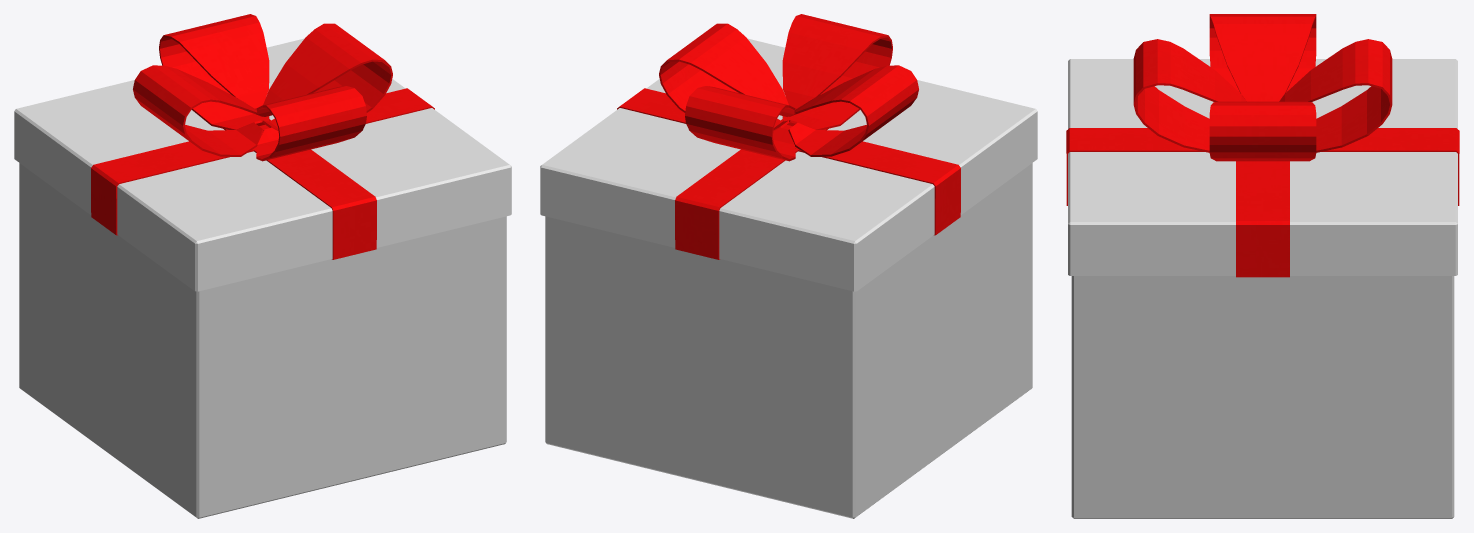
File: gift box.fbx
3 renders of one model, left to right at view 1: azimuth 30°, elevation 25°; view 2: azimuth 150°, elevation 25°; view 3: azimuth 270°, elevation 25°, orthographic. The views are drawn at different scales.
Visible parts, largest first — view 1: SK_GiftBox.002; view 2: SK_GiftBox.002; view 3: SK_GiftBox.002.
Part boxes in pixels (left/top/right/bottom): SK_GiftBox.002: left=14, top=14, right=511, bottom=518; SK_GiftBox.002: left=540, top=14, right=1037, bottom=518; SK_GiftBox.002: left=1066, top=14, right=1459, bottom=518.
Bounding box in the file's own units: 1.88 × 2 × 1.88.
